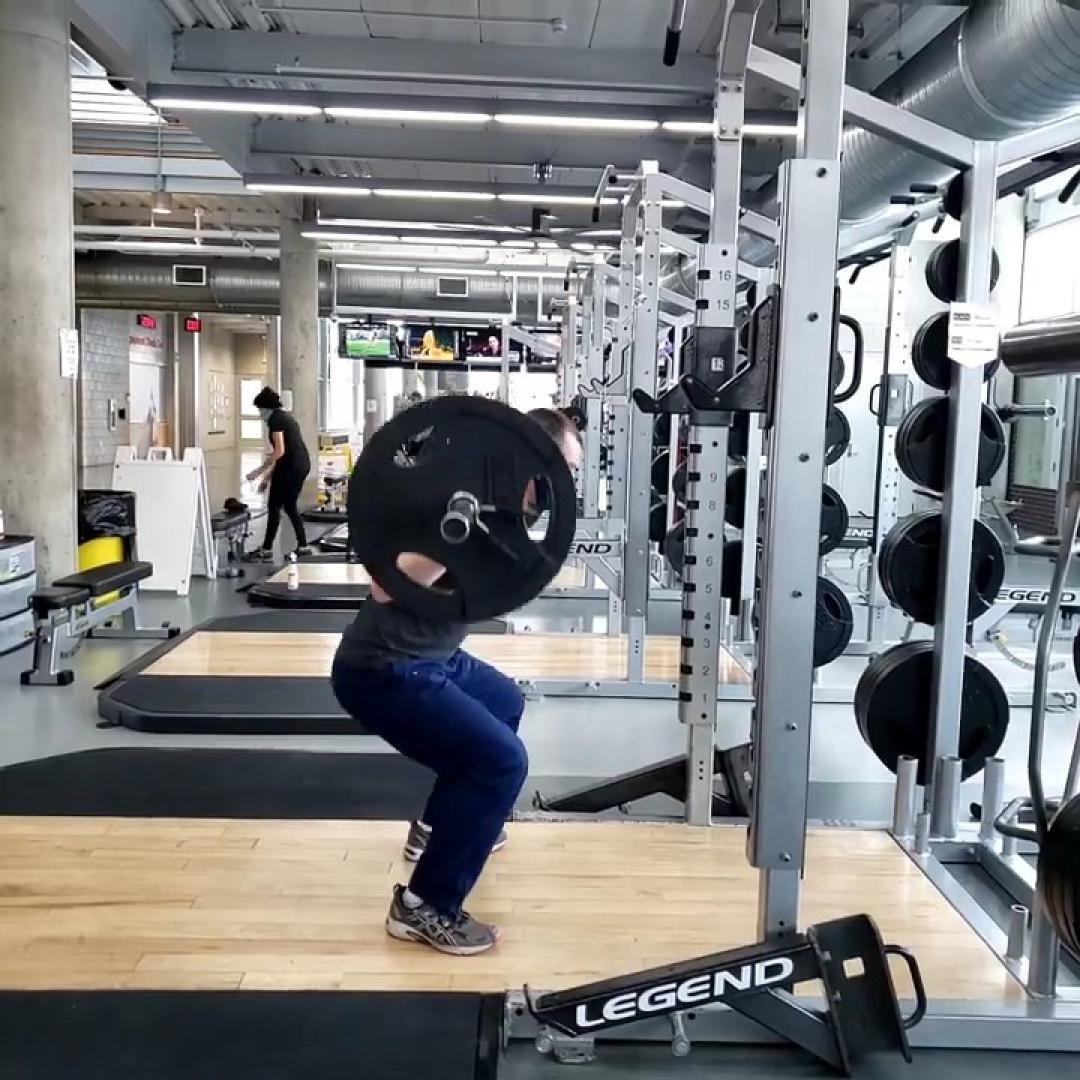Bar: (438, 513, 470, 545)
Barbell: (345, 394, 577, 624)
